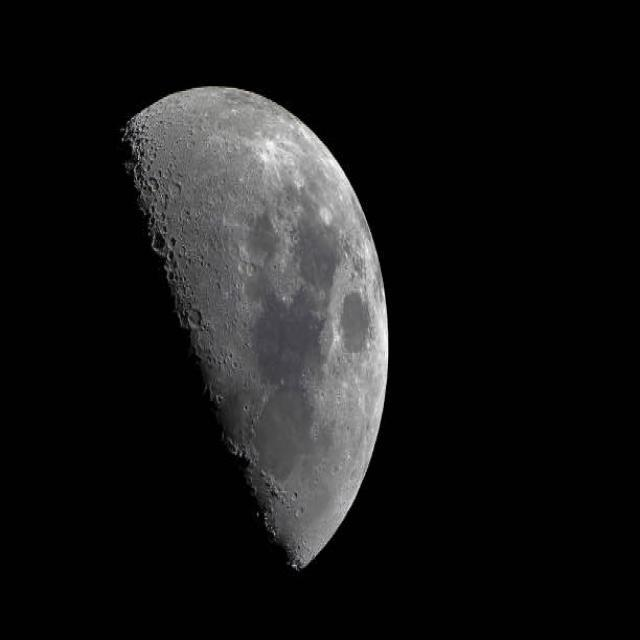moon: (28, 79, 389, 583)
